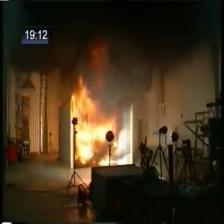fire: (71, 93, 113, 169)
smoke: (51, 10, 198, 52)
